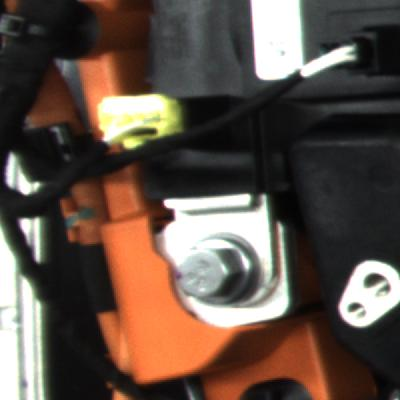nut_b: (167, 224, 274, 315)
